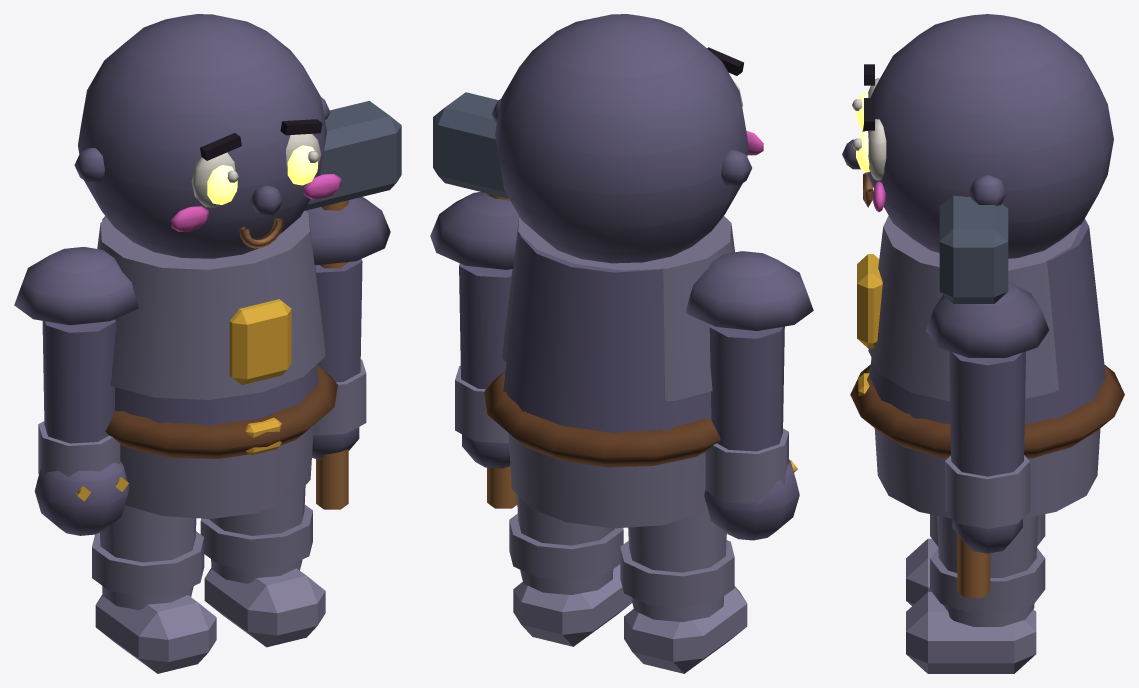
File: hero_goliath.glb
3 renders of one model, left to right at view 1: azimuth 30°, elevation 25°; view 2: azimuth 150°, elevation 25°; view 3: azimuth 270°, elevation 25°, orthographic.
Visible parts, largest first — view 1: body_t0_palette, arml_t0_palette, armr_t0_palette, legl_t0_palette, legr_t0_palette, body_t0_glow_gold; view 2: body_t0_palette, arml_t0_palette, armr_t0_palette, legl_t0_palette, legr_t0_palette; view 3: body_t0_palette, armr_t0_palette, legr_t0_palette, legl_t0_palette, body_t0_glow_gold.
Boxes of the visible parts, x1,y1,x2,y2 form: body_t0_palette: (74, 14, 341, 518); arml_t0_palette: (14, 247, 138, 535); armr_t0_palette: (304, 100, 401, 509); legl_t0_palette: (92, 505, 216, 673); legr_t0_palette: (200, 485, 325, 647); body_t0_glow_gold: (207, 145, 317, 204); body_t0_palette: (484, 14, 763, 528); arml_t0_palette: (686, 251, 813, 540); armr_t0_palette: (430, 92, 518, 508); legl_t0_palette: (620, 501, 747, 673); legr_t0_palette: (509, 494, 632, 646); body_t0_palette: (842, 14, 1124, 518); armr_t0_palette: (926, 195, 1049, 597); legr_t0_palette: (906, 515, 1045, 673); legl_t0_palette: (906, 514, 1045, 605); body_t0_glow_gold: (856, 91, 869, 172).
Bounding box in the file's own units: 0.3051 × 0.492 × 0.206.
